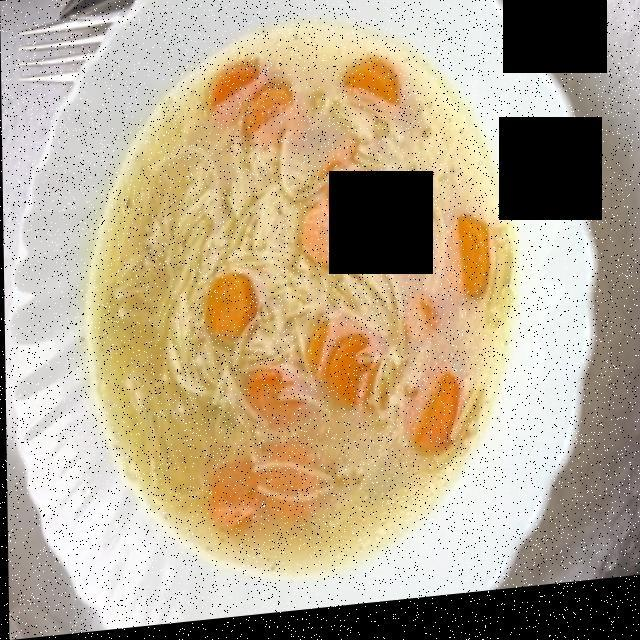carrot: (187, 65, 488, 538)
